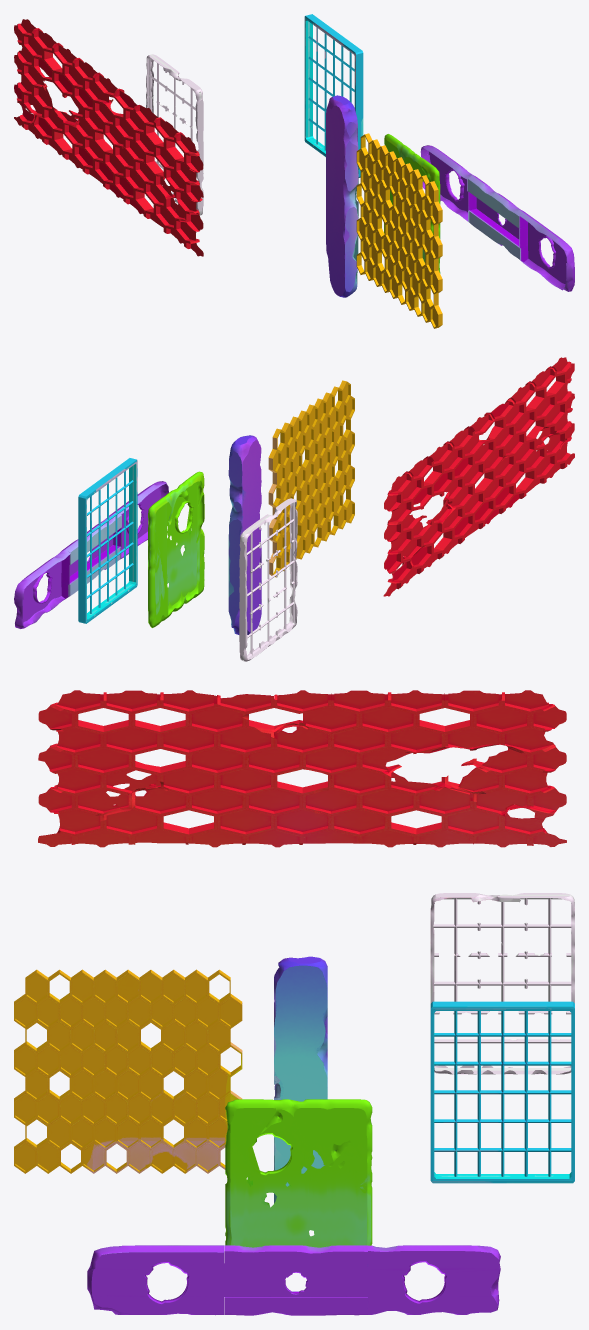
The model's file is Obstaculos.fbx.
The picture shows the model from 3 angles, top to bottom: view 1: azimuth 30°, elevation 25°; view 2: azimuth 150°, elevation 25°; view 3: azimuth 270°, elevation 25°; orthographic projection. The views are drawn at different scales.
Visible parts, largest first — view 1: Obstaculo7, Obstaculo3, Obstaculo1, Obstaculo4, Obstaculo5, Obstaculo6, Obstaculo2; view 2: Obstaculo7, Obstaculo3, Obstaculo2, Obstaculo1, Obstaculo4, Obstaculo5, Obstaculo6; view 3: Obstaculo7, Obstaculo3, Obstaculo1, Obstaculo2, Obstaculo5, Obstaculo4, Obstaculo6.
Boxes of the visible parts, left/top/right/bottom form: Obstaculo7: left=14, top=19, right=203, bottom=256; Obstaculo3: left=356, top=133, right=442, bottom=328; Obstaculo1: left=420, top=145, right=574, bottom=291; Obstaculo4: left=326, top=95, right=358, bottom=297; Obstaculo5: left=304, top=14, right=363, bottom=177; Obstaculo6: left=146, top=54, right=203, bottom=215; Obstaculo2: left=384, top=134, right=440, bottom=273; Obstaculo7: left=383, top=357, right=574, bottom=596; Obstaculo3: left=268, top=380, right=354, bottom=577; Obstaculo2: left=148, top=471, right=204, bottom=627; Obstaculo1: left=14, top=481, right=168, bottom=628; Obstaculo4: left=228, top=435, right=261, bottom=634; Obstaculo5: left=78, top=458, right=137, bottom=623; Obstaculo6: left=239, top=498, right=297, bottom=661; Obstaculo7: left=38, top=690, right=566, bottom=847; Obstaculo3: left=14, top=969, right=242, bottom=1173; Obstaculo1: left=87, top=1245, right=500, bottom=1315; Obstaculo2: left=225, top=1099, right=372, bottom=1247; Obstaculo5: left=430, top=1001, right=574, bottom=1183; Obstaculo4: left=274, top=956, right=327, bottom=1203; Obstaculo6: left=430, top=893, right=574, bottom=1074.
Size of the model in its own units: 2718 by 1770 by 2375.
